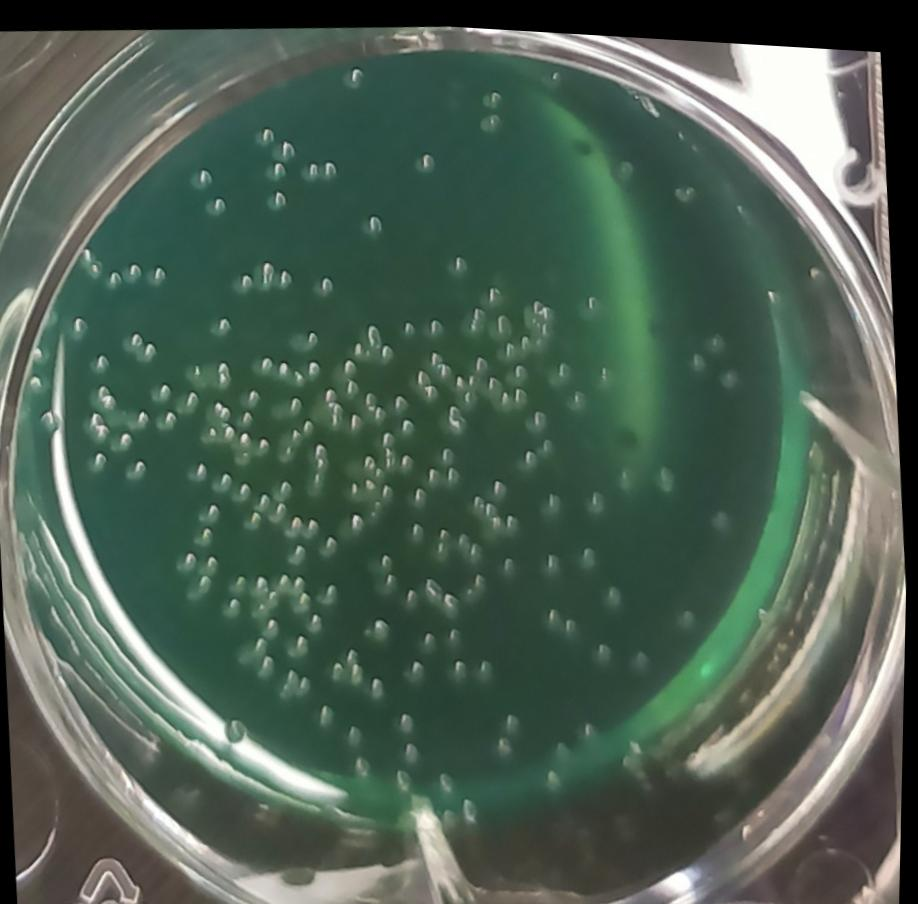paeruginosa: (253, 251, 297, 293), (285, 320, 329, 352), (472, 644, 504, 678), (443, 395, 473, 430), (369, 539, 403, 569), (421, 306, 451, 338), (210, 307, 241, 337)
